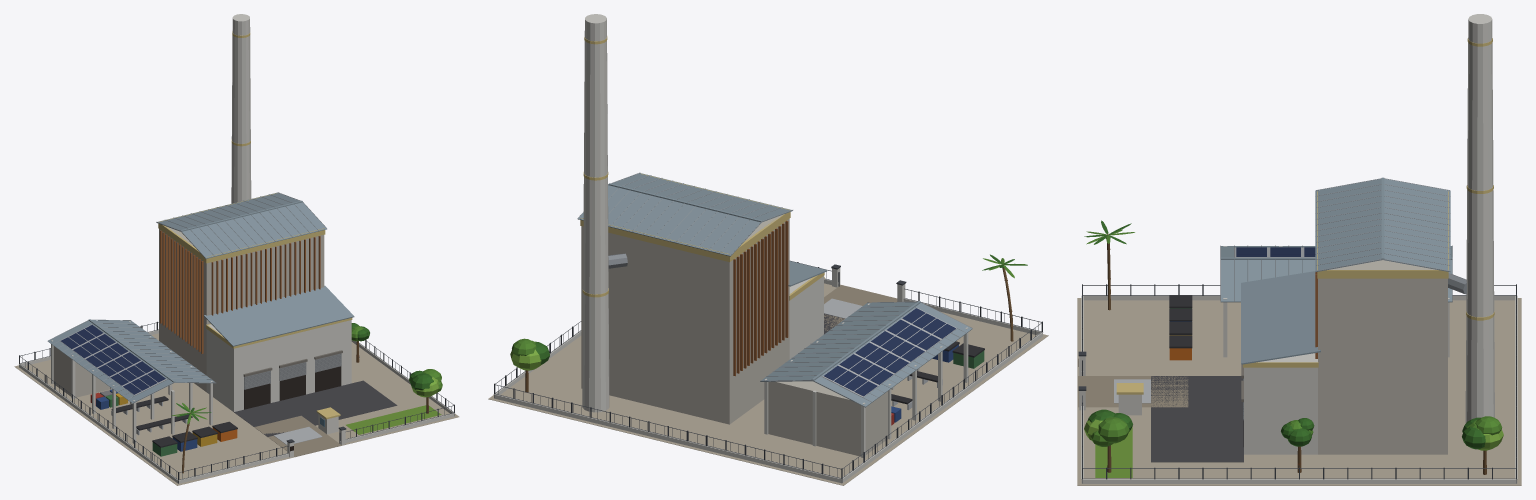
Rendered from waste.glb.
3 views of the same model, side by side, from view 1: azimuth 30°, elevation 25°; view 2: azimuth 150°, elevation 25°; view 3: azimuth 270°, elevation 25° (orthographic). The views are drawn at different scales.
Visible parts, largest first — view 1: body, windows; view 2: body; view 3: body.
Part boxes in pixels (x1,y1,x2,y2): body: (14,14,459,485); windows: (244,366,341,409); body: (488,14,1048,485); body: (1077,14,1521,485).
Bounding box in the file's own units: 47.9 × 50.04 × 47.9.
